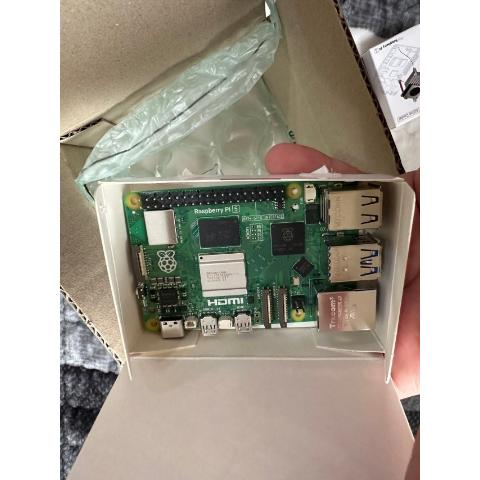Raspberry Pi 5: (115, 180, 389, 344)
